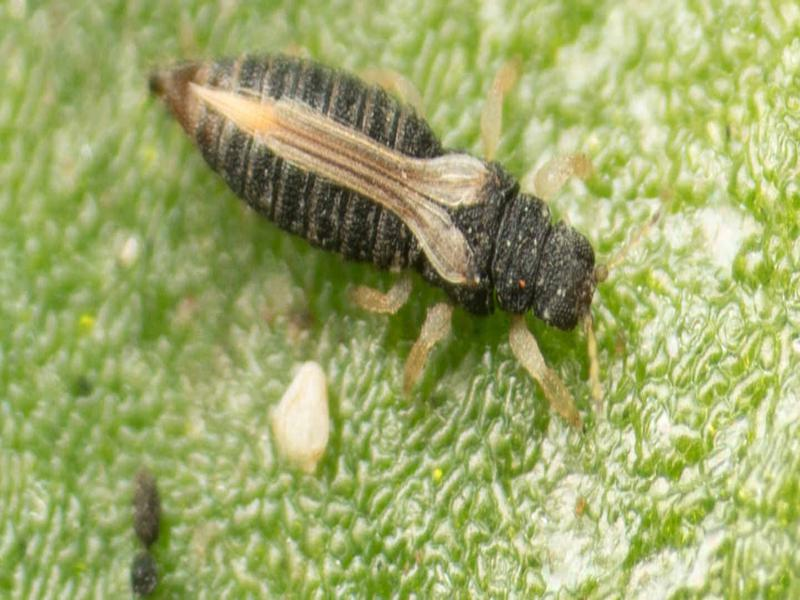Thrips: (144, 40, 632, 340)
